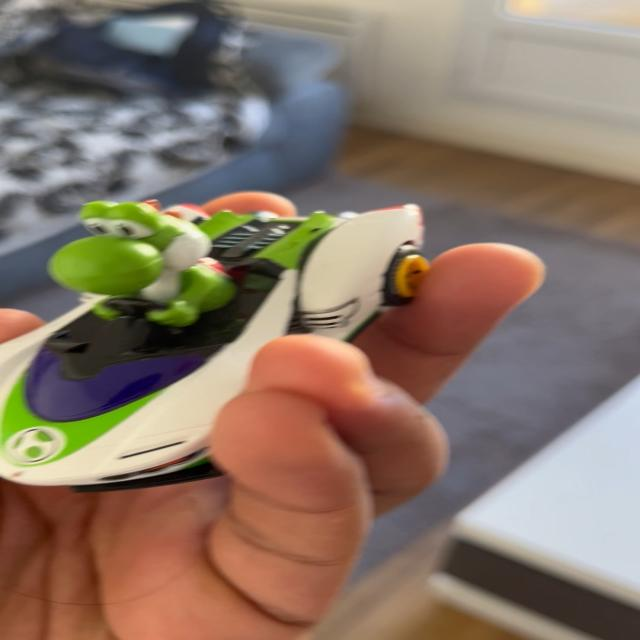yoshi: (5, 166, 476, 506)
